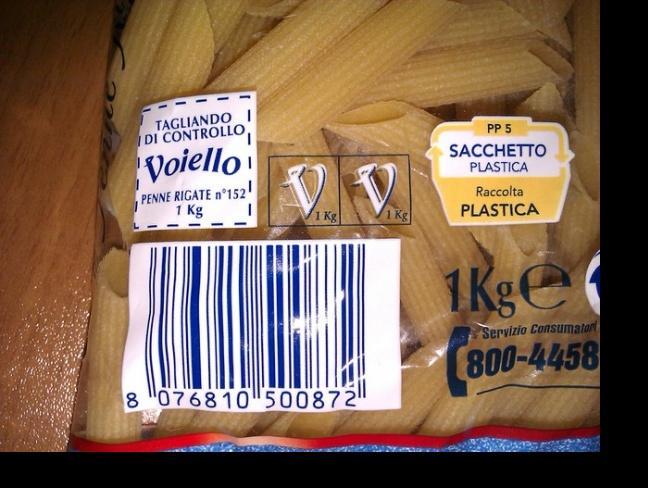Barcode: (124, 239, 384, 408)
